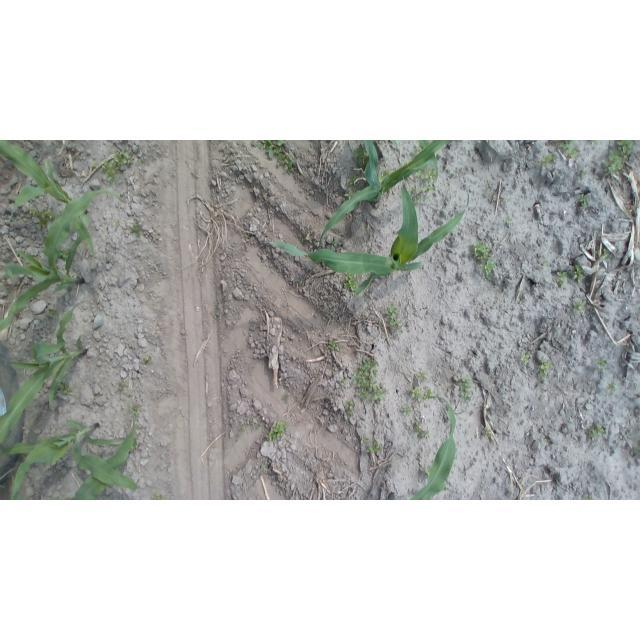Maize: (267, 180, 474, 293), (0, 192, 126, 333), (319, 140, 455, 248), (1, 300, 90, 448), (0, 413, 142, 500), (0, 142, 100, 243), (406, 395, 458, 500)
Weeds: (351, 353, 388, 405), (602, 140, 635, 177), (102, 149, 135, 183), (473, 241, 498, 280), (250, 141, 289, 160), (30, 208, 57, 229), (412, 183, 437, 204), (458, 374, 475, 404), (266, 421, 288, 444), (386, 304, 403, 333), (536, 359, 554, 382), (353, 145, 371, 167), (587, 423, 607, 442), (280, 152, 297, 174), (414, 169, 436, 186), (412, 422, 431, 441), (411, 387, 435, 402), (560, 142, 581, 159), (342, 274, 359, 294), (361, 438, 381, 455), (57, 380, 74, 397), (343, 399, 357, 419), (572, 263, 586, 283), (243, 419, 261, 434), (129, 221, 143, 240), (360, 437, 377, 452), (572, 299, 589, 314), (556, 271, 569, 290), (414, 371, 430, 384), (130, 402, 143, 418), (596, 357, 609, 372), (598, 248, 611, 262), (481, 425, 494, 439), (539, 154, 554, 166), (57, 247, 70, 260), (578, 194, 590, 208), (45, 307, 59, 319), (347, 173, 358, 188), (399, 406, 414, 417), (521, 352, 532, 365), (414, 141, 425, 154), (328, 340, 339, 353), (502, 215, 514, 226), (211, 308, 222, 320), (150, 492, 166, 500), (538, 257, 550, 267), (605, 382, 617, 392), (141, 354, 152, 364), (118, 380, 127, 392), (89, 160, 99, 170), (578, 168, 588, 178), (280, 393, 290, 403), (329, 240, 340, 249), (540, 435, 549, 445), (236, 427, 244, 438), (131, 439, 138, 451), (340, 378, 348, 388), (422, 467, 430, 477), (261, 461, 269, 470), (114, 219, 122, 228), (138, 157, 148, 164), (582, 494, 594, 499), (589, 141, 599, 146)
